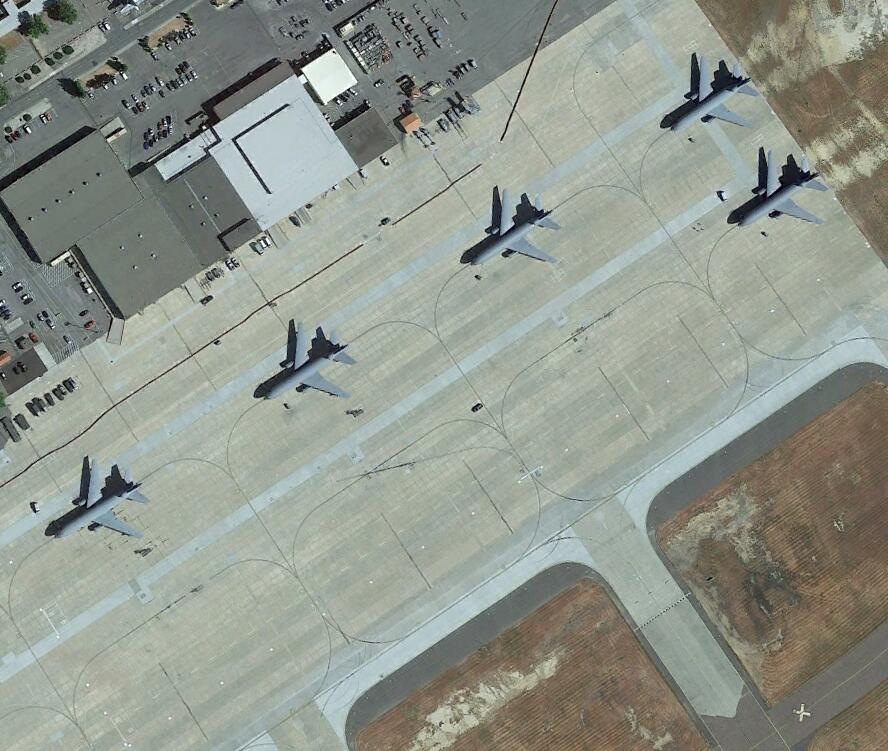A18: (42, 462, 149, 548), (256, 321, 356, 408), (467, 192, 565, 275), (732, 150, 826, 233), (668, 59, 760, 137)
